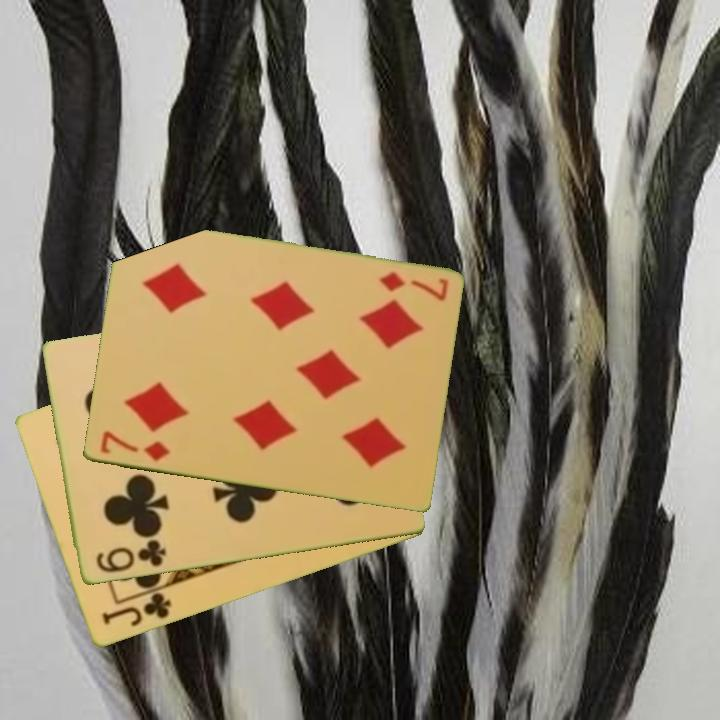6c: (92, 536, 169, 577)
7d: (96, 428, 173, 465), (375, 269, 451, 304)
Jc: (98, 589, 174, 630)
